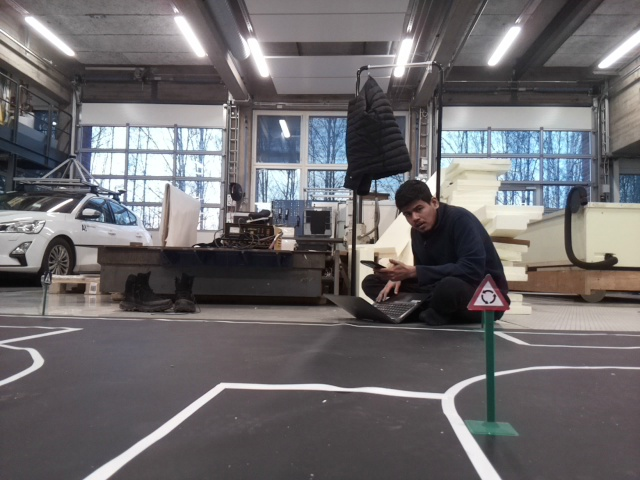Roundabout: (465, 275, 509, 309)
